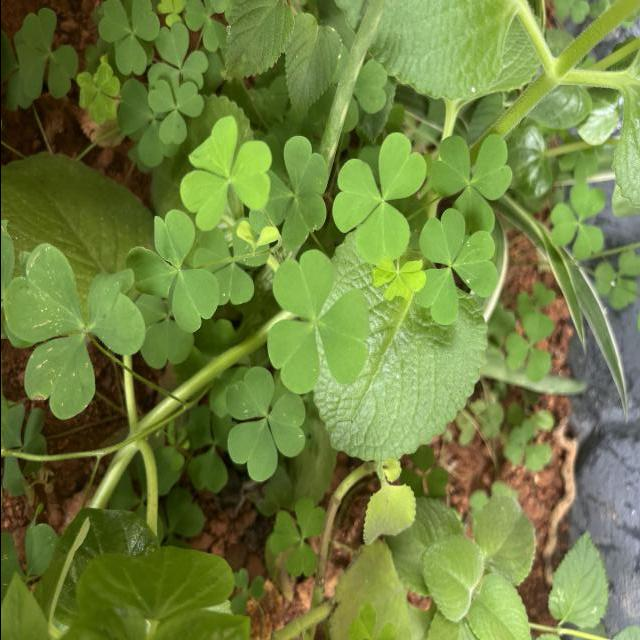Oxalis corniculata: (2, 241, 146, 421), (270, 248, 370, 393), (331, 132, 426, 266), (124, 208, 220, 335), (178, 115, 272, 233), (413, 208, 497, 326), (224, 364, 306, 482), (428, 133, 512, 237), (96, 0, 162, 77), (146, 79, 204, 145)
